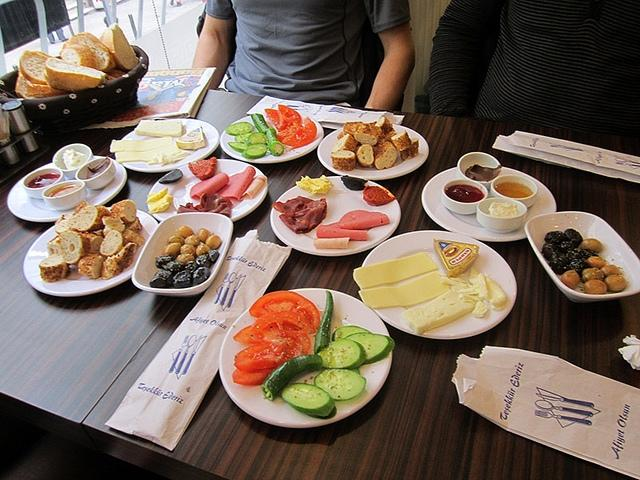cucumber: (280, 383, 336, 417), (314, 368, 366, 402), (343, 332, 395, 365), (318, 339, 367, 369), (332, 326, 372, 342), (225, 122, 254, 136), (242, 144, 268, 158), (248, 132, 268, 144), (228, 142, 248, 153), (235, 132, 252, 142)
hot pepper: (261, 354, 323, 401), (314, 290, 333, 355), (266, 127, 284, 156), (251, 113, 269, 134)
tomato: (248, 290, 320, 330), (237, 310, 316, 344), (234, 341, 287, 371), (282, 117, 317, 148), (276, 104, 302, 142), (232, 368, 276, 386), (264, 108, 280, 130)
